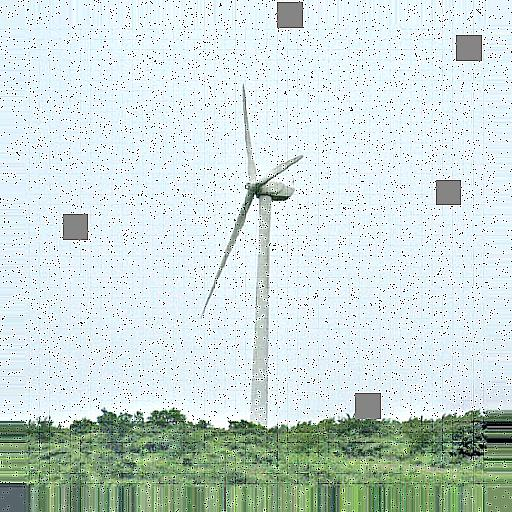wind turbine: (196, 84, 304, 426)
